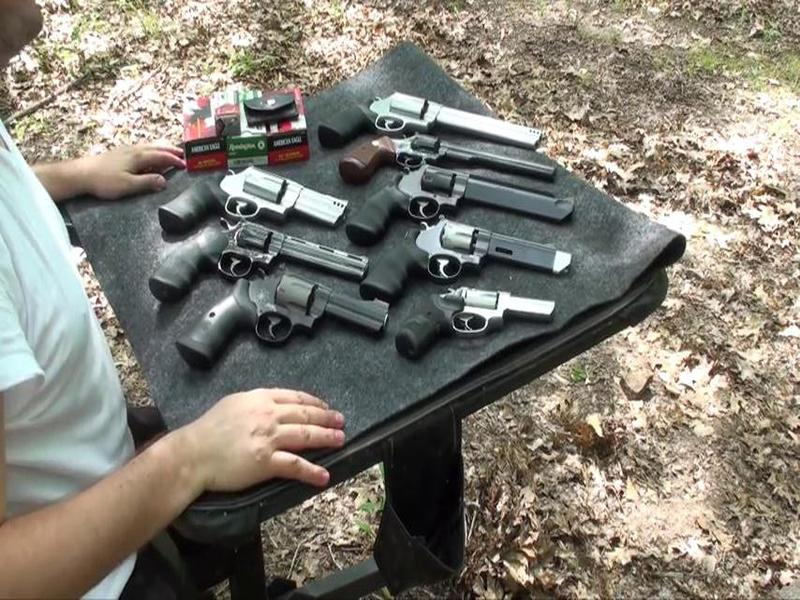Revolver: (179, 275, 393, 374), (147, 156, 357, 236), (318, 83, 553, 151), (401, 284, 560, 352)
